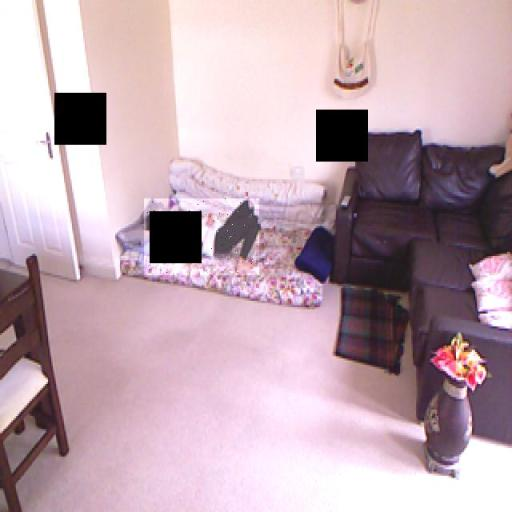Fall: (144, 199, 259, 276)
